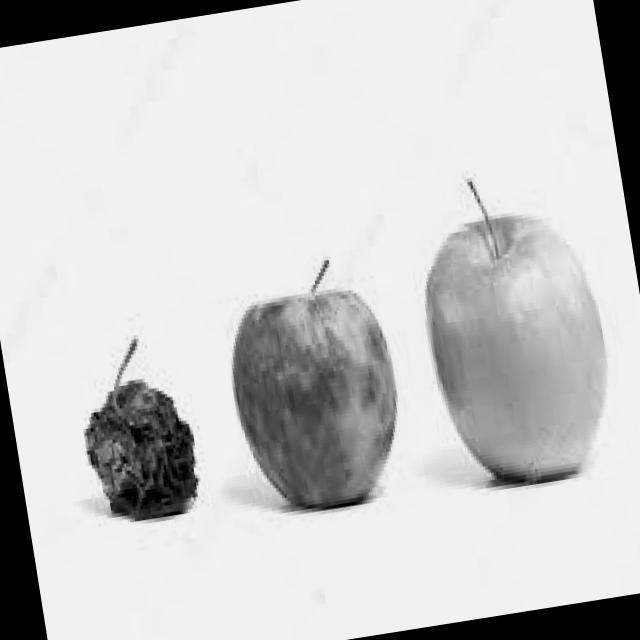Green Juicy Apple: (408, 207, 624, 498)
Rotten Apple: (216, 284, 413, 516), (75, 372, 206, 528)
